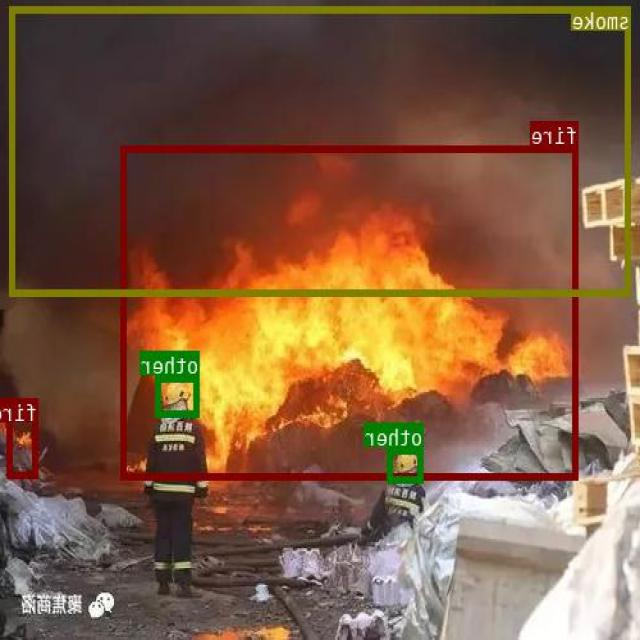fire: (122, 144, 578, 479), (8, 398, 39, 477)
other: (157, 374, 200, 416), (388, 446, 425, 481)
smoke: (12, 6, 632, 295)
